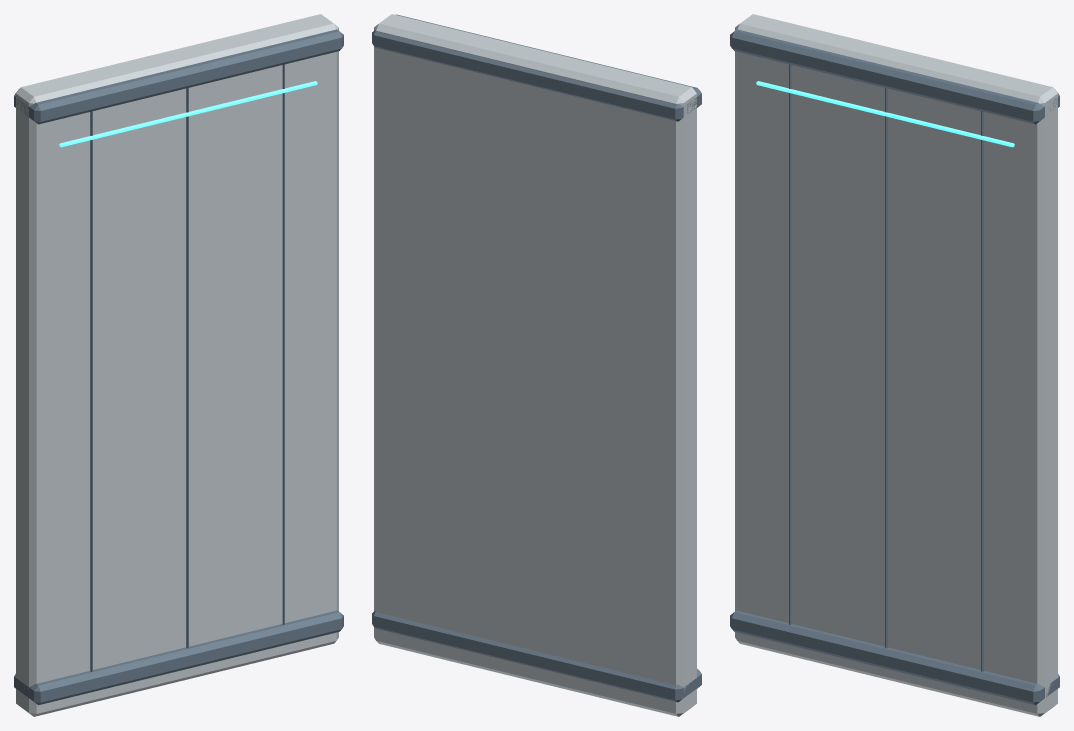
File: architecture_06.glb
The picture shows the model from 3 angles, left to right: view 1: azimuth 30°, elevation 25°; view 2: azimuth 150°, elevation 25°; view 3: azimuth 330°, elevation 25°; orthographic projection.
Parts seen in each view (by area): view 1: WallPanel, WallTrim (×2), PanelSeam (×3), WallLED; view 2: WallPanel, WallTrim (×2); view 3: WallPanel, WallTrim (×2), PanelSeam (×3), WallLED.
Boxes of the visible parts, x1,y1,x2,y2 form: WallPanel: (16, 14, 338, 716); WallTrim (×2): (14, 29, 343, 705); PanelSeam (×3): (90, 64, 284, 671); WallLED: (59, 81, 317, 147); WallPanel: (374, 14, 696, 716); WallTrim (×2): (372, 14, 701, 702); WallPanel: (735, 14, 1057, 716); WallTrim (×2): (730, 29, 1059, 705); PanelSeam (×3): (789, 64, 983, 671); WallLED: (756, 81, 1014, 147).
Size of the model in its own units: 1.15 by 2.2 by 0.16.
